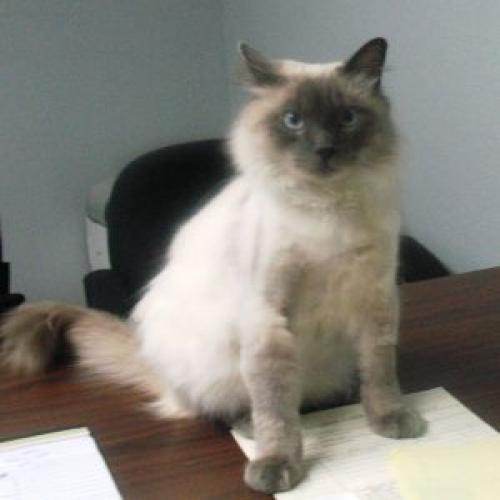ragdoll: (226, 30, 402, 199)
